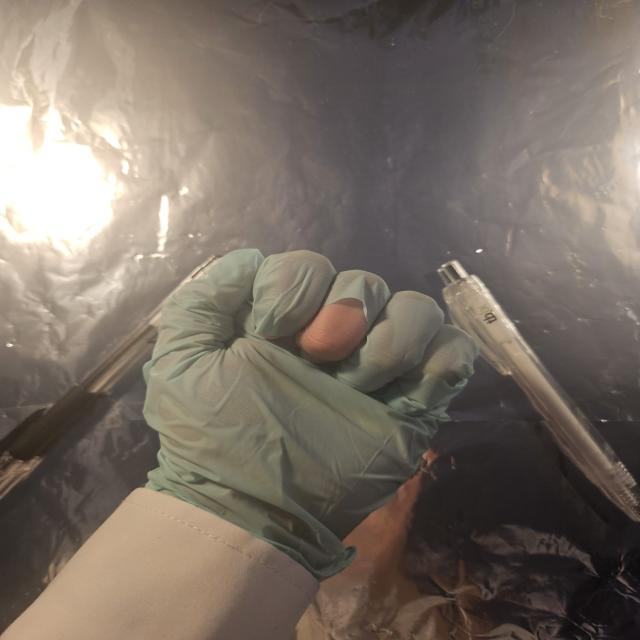gloves_damaged: (141, 243, 479, 578)
